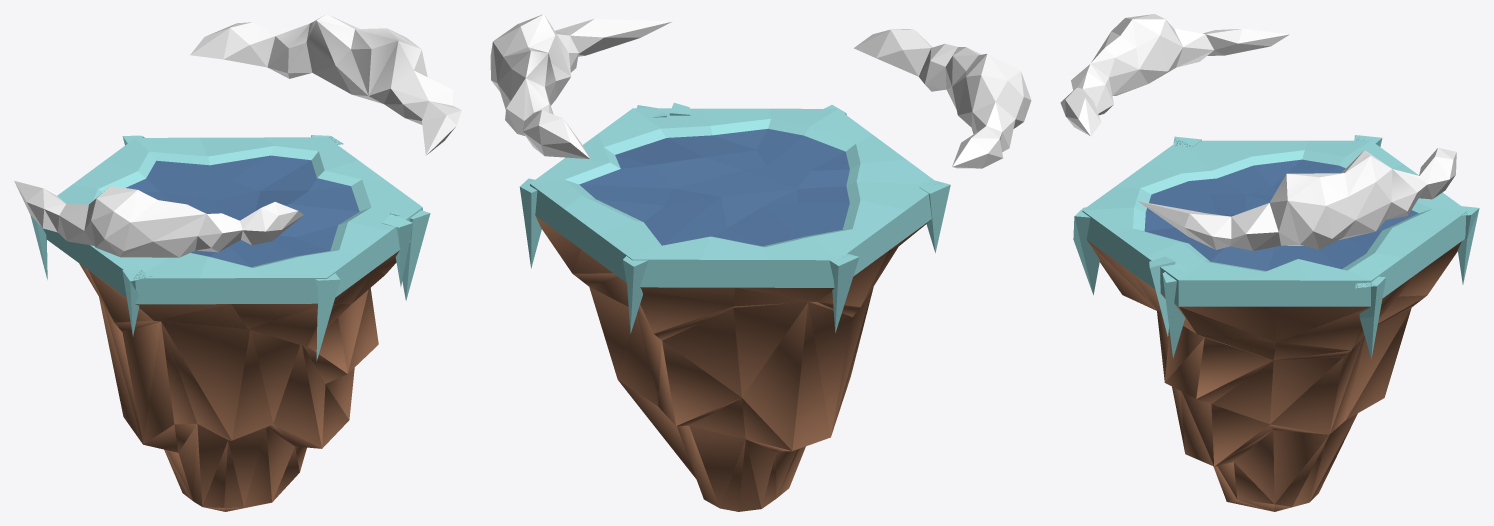
File: lago (Gelo).fbx
The picture shows the model from 3 angles, left to right: view 1: azimuth 30°, elevation 25°; view 2: azimuth 150°, elevation 25°; view 3: azimuth 270°, elevation 25°; orthographic projection. The views are drawn at different scales.
Visible parts, largest first — view 1: lago (Gelo); view 2: lago (Gelo); view 3: lago (Gelo).
Part boxes in pixels (x1,y1,x2,y2): lago (Gelo): (14,14,461,511); lago (Gelo): (490,14,1031,511); lago (Gelo): (1060,14,1479,511).
Size of the model in its own units: 1468 by 1394 by 1233.
